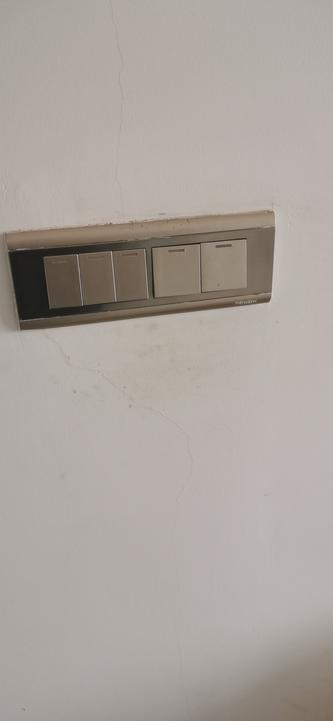switch: (201, 239, 254, 295), (150, 244, 201, 296), (112, 248, 151, 304), (41, 256, 82, 308), (78, 252, 114, 302)
